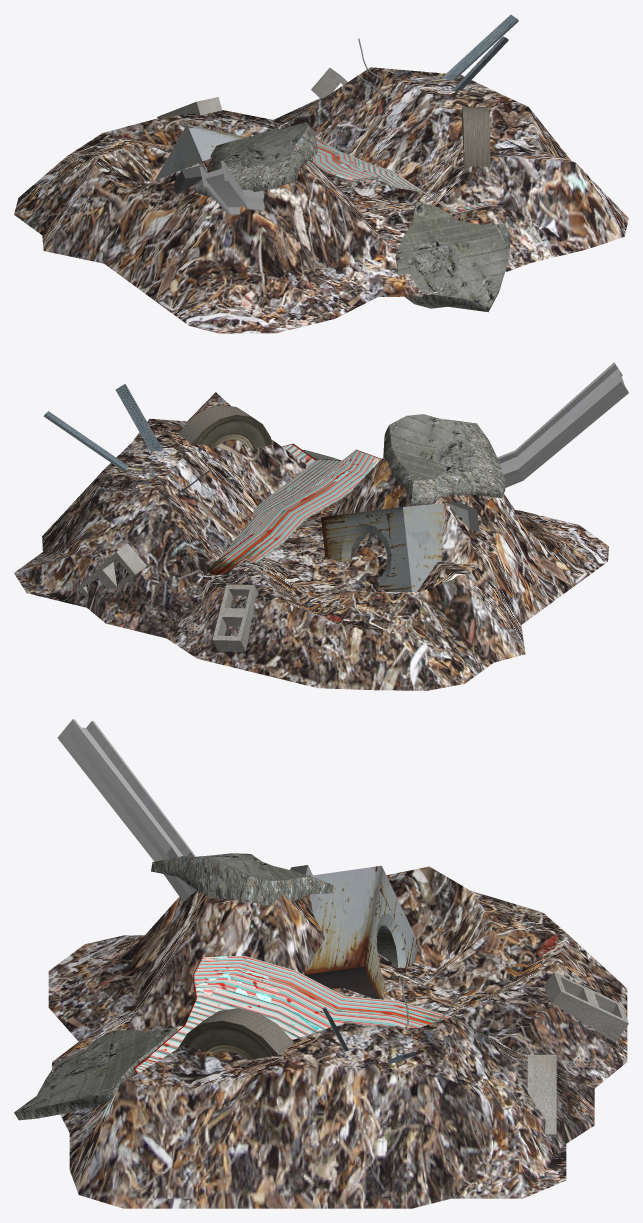
File: ComboPile1.FBX
The picture shows the model from 3 angles, top to bottom: view 1: azimuth 30°, elevation 25°; view 2: azimuth 150°, elevation 25°; view 3: azimuth 270°, elevation 25°; orthographic projection. The views are drawn at different scales.
Visible parts, largest first — view 1: Plane01, Box01 (×5), Box04, Torus01, tire1, Box02, Box03; view 2: Plane01, Box01 (×5), Torus01, tire1, Box03, Box02; view 3: Plane01, Box01 (×4), Torus01, Box04, tire1, Box03.
Boxes of the visible parts, left/top/right/bottom form: Plane01: left=14, top=67, right=628, bottom=333; Box01 (×5): left=193, top=36, right=508, bottom=214; Box04: left=395, top=201, right=511, bottom=312; Torus01: left=155, top=124, right=247, bottom=194; tire1: left=461, top=107, right=490, bottom=172; Box02: left=441, top=14, right=518, bottom=80; Box03: left=157, top=97, right=221, bottom=118; Plane01: left=14, top=392, right=608, bottom=690; Box01 (×5): left=77, top=362, right=628, bottom=596; Torus01: left=321, top=502, right=479, bottom=591; tire1: left=178, top=405, right=271, bottom=447; Box03: left=212, top=584, right=258, bottom=651; Box02: left=43, top=411, right=127, bottom=470; Plane01: left=48, top=866, right=627, bottom=1208; Box01 (×4): left=57, top=719, right=556, bottom=1138; Torus01: left=290, top=865, right=418, bottom=999; Box04: left=14, top=1027, right=177, bottom=1120; tire1: left=178, top=1008, right=293, bottom=1059; Box03: left=544, top=972, right=628, bottom=1042.
Bounding box in the file's own units: 8.33 × 3.4 × 7.38.
20 materials, 20 textured.
